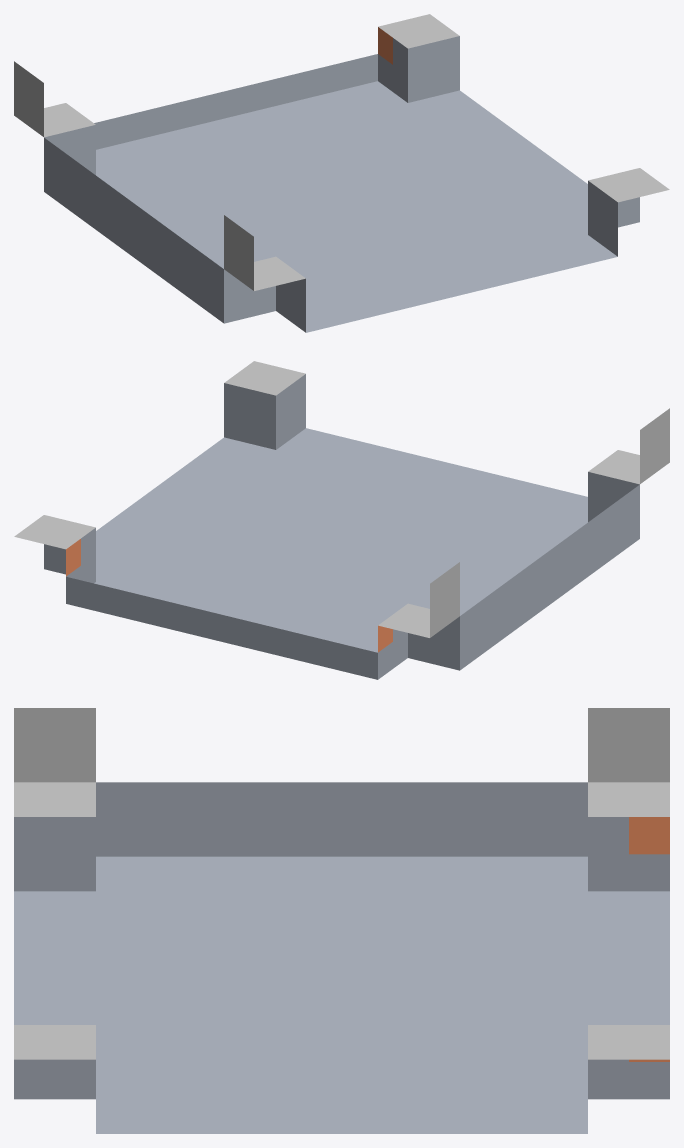
The model's file is cell_10.obj.
3 views of the same model, one above another, from view 1: azimuth 30°, elevation 25°; view 2: azimuth 150°, elevation 25°; view 3: azimuth 270°, elevation 25° (orthographic). The views are drawn at different scales.
Bounding box in the file's own units: 1 × 0.25 × 1.
